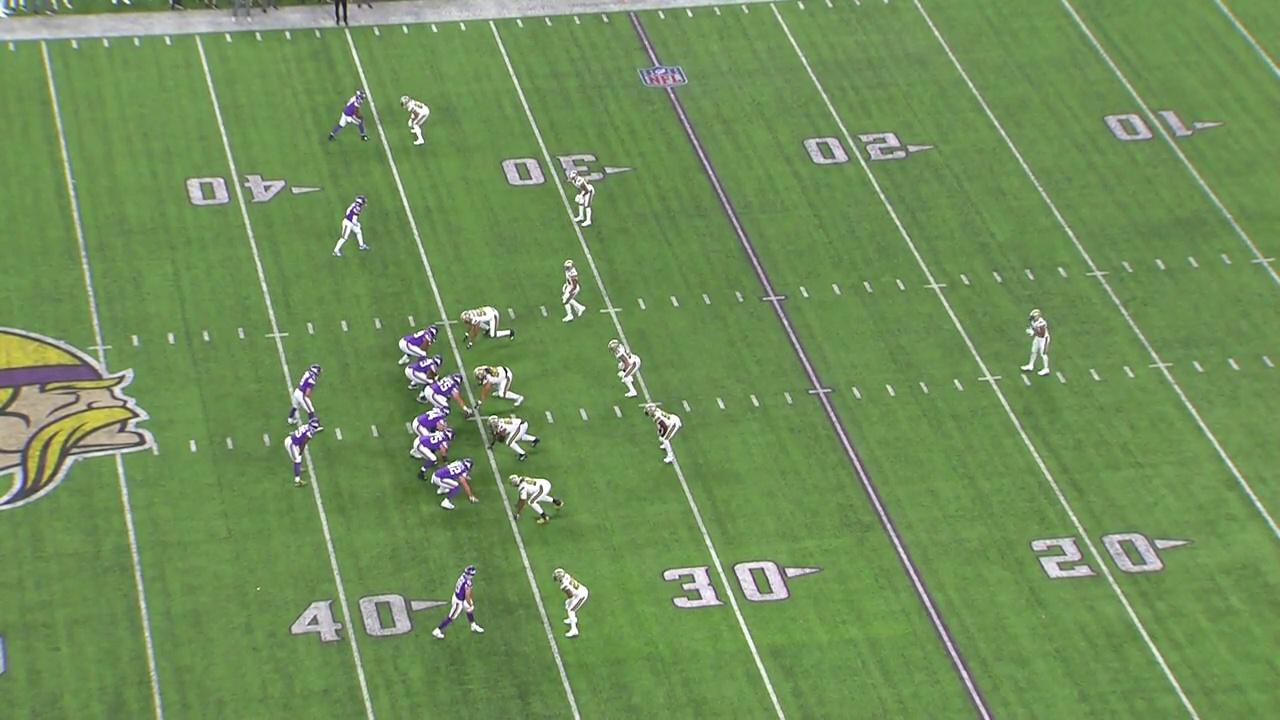defense: (481, 414, 544, 461), (506, 473, 564, 524), (458, 304, 517, 351), (550, 569, 590, 637), (466, 367, 525, 409), (1018, 308, 1054, 376), (643, 402, 681, 465), (396, 91, 431, 149), (556, 259, 586, 323), (609, 341, 640, 398), (569, 168, 595, 232)
oline: (409, 406, 453, 460), (406, 354, 447, 404), (414, 429, 451, 483), (396, 324, 439, 368), (429, 375, 474, 417)
qb: (286, 362, 322, 426)
skill: (430, 563, 487, 641), (281, 416, 324, 491), (330, 194, 373, 258), (432, 457, 479, 511), (327, 88, 371, 143)
